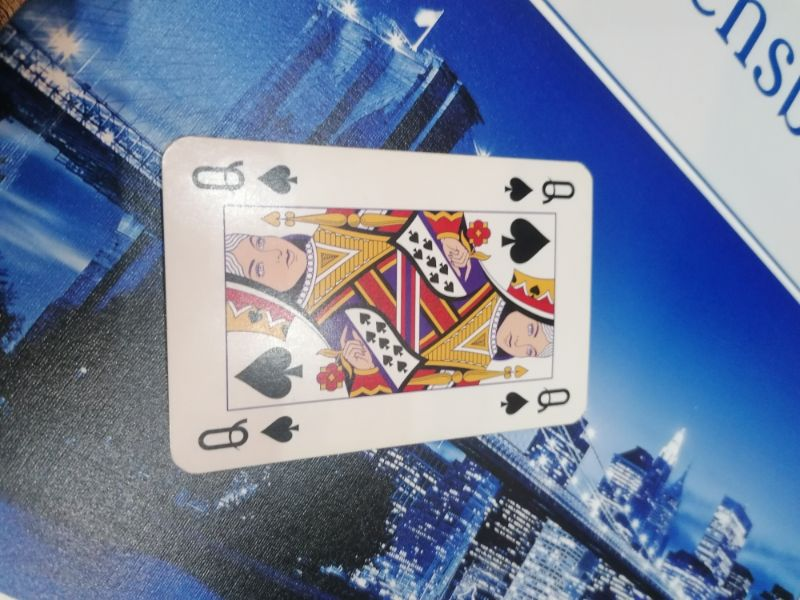Qs: (188, 151, 305, 201), (193, 411, 300, 456), (496, 381, 574, 418), (503, 173, 578, 206)
